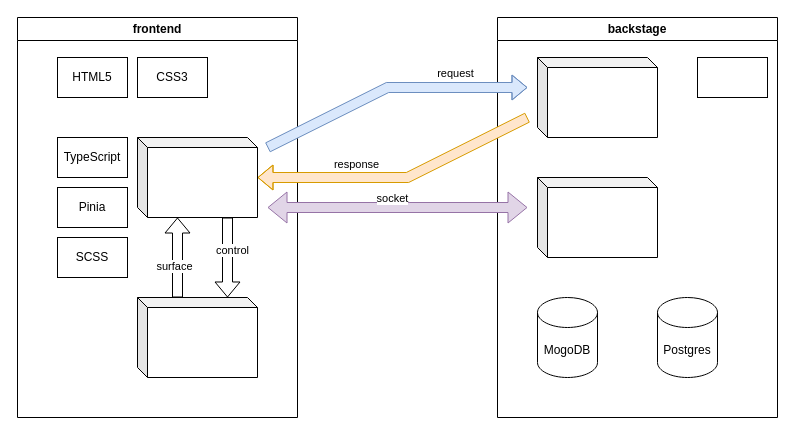
The diagram is 795 pixels wide and 435 high, and some of its shapes have lost their labels. Here are the shapes that lost their labels. From the top down, the box of each, then its label:
(536, 56, 658, 138): FastAPI
(696, 56, 768, 98): Python
(136, 136, 258, 218): VUE3
(536, 176, 658, 258): WebSockets
(136, 296, 258, 378): Threejs
